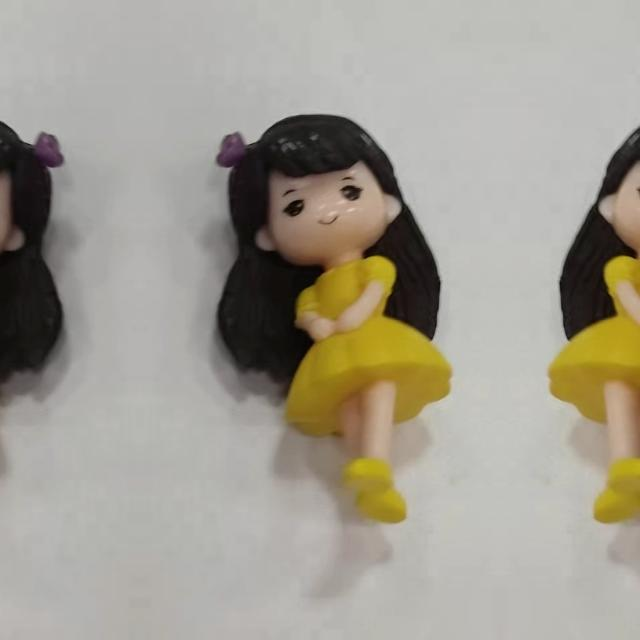woman dress: (282, 259, 456, 441), (544, 259, 640, 441)
woman head: (210, 114, 414, 254), (0, 114, 70, 254), (586, 114, 640, 254)
